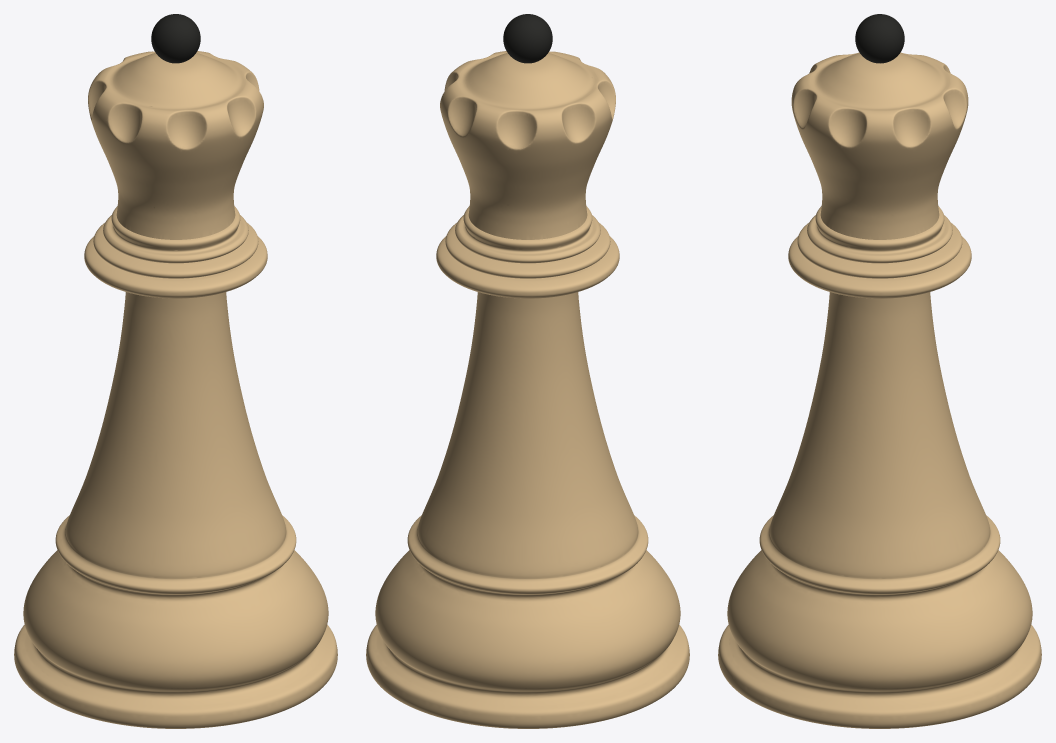
File: queen.glb
3 views of the same model, side by side, from view 1: azimuth 30°, elevation 25°; view 2: azimuth 150°, elevation 25°; view 3: azimuth 270°, elevation 25° (orthographic).
Parts seen in each view (by area): view 1: Queen.002; view 2: Queen.002; view 3: Queen.002.
Part boxes in pixels (x1=…): Queen.002: x1=14, y1=14, x2=337, y2=728; Queen.002: x1=366, y1=14, x2=689, y2=728; Queen.002: x1=718, y1=14, x2=1041, y2=728.
Bounding box in the file's own units: 0.0392 × 0.0875 × 0.0392.
